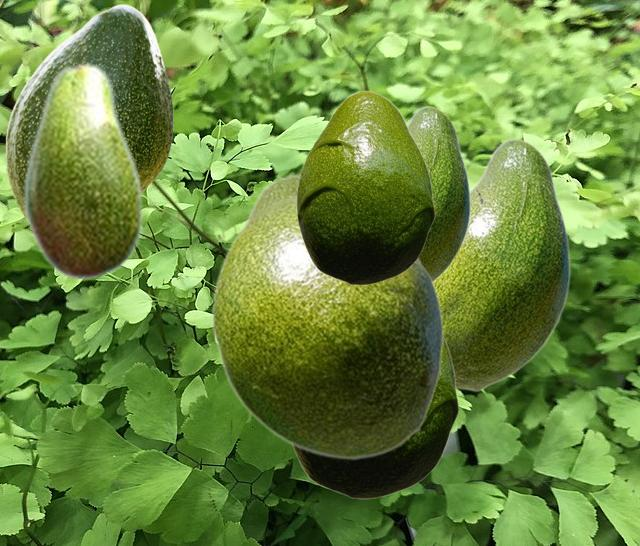avocado: (210, 173, 443, 460), (5, 4, 172, 219), (435, 137, 570, 391), (293, 335, 458, 498), (296, 90, 434, 284), (23, 60, 143, 281), (408, 105, 470, 282)
